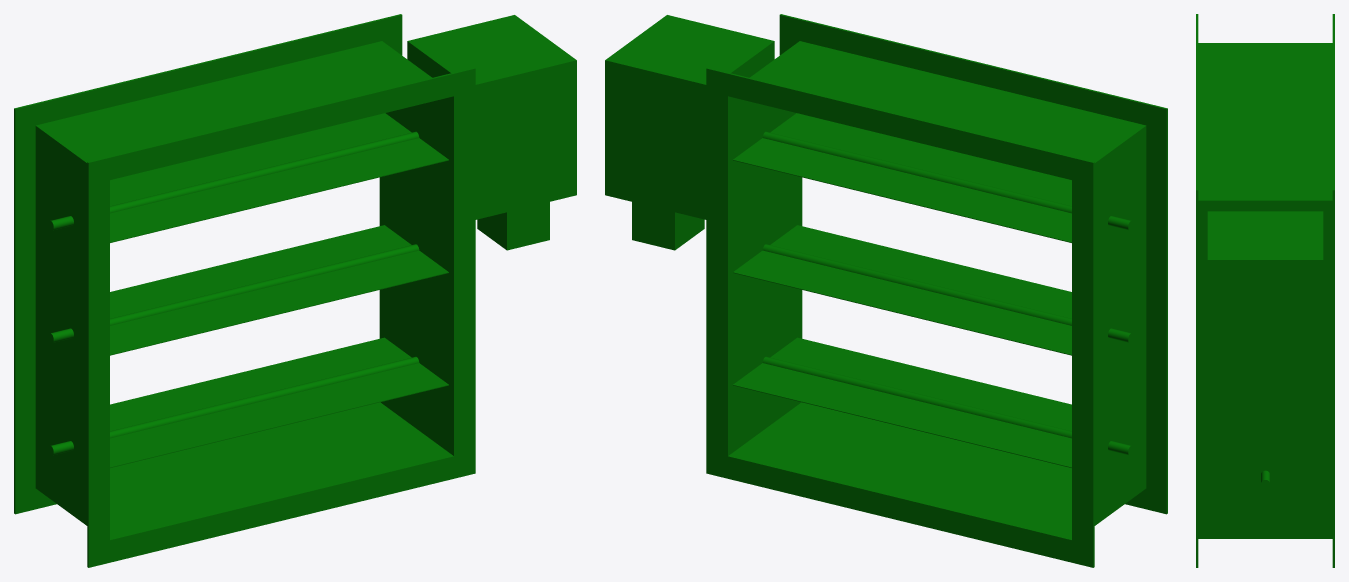
The model's file is Image-1711348127628-2280725542608_77-GE153_H.fbx.
3 views of the same model, side by side, from view 1: azimuth 30°, elevation 25°; view 2: azimuth 150°, elevation 25°; view 3: azimuth 270°, elevation 25° (orthographic). The views are drawn at different scales.
Visible parts, largest first — view 1: BOX 6 of EQUIPMENT /77-GE153_H, BOX 8 of EQUIPMENT /77-GE153_H, BOX 1 of EQUIPMENT /77-GE153_H, BOX 7 of EQUIPMENT /77-GE153_H, BOX 3 of EQUIPMENT /77-GE153_H, BOX 5 of EQUIPMENT /77-GE153_H, BOX 4 of EQUIPMENT /77-GE153_H, CYLINDER 3 of EQUIPMENT /77-GE153_H, CYLINDER 1 of EQUIPMENT /77-GE153_H, CYLINDER 2 of EQUIPMENT /77-GE153_H, BOX 2 of EQUIPMENT /77-GE153_H; view 2: BOX 6 of EQUIPMENT /77-GE153_H, BOX 7 of EQUIPMENT /77-GE153_H, BOX 1 of EQUIPMENT /77-GE153_H, BOX 8 of EQUIPMENT /77-GE153_H, BOX 3 of EQUIPMENT /77-GE153_H, BOX 5 of EQUIPMENT /77-GE153_H, BOX 4 of EQUIPMENT /77-GE153_H, CYLINDER 3 of EQUIPMENT /77-GE153_H, CYLINDER 1 of EQUIPMENT /77-GE153_H, CYLINDER 2 of EQUIPMENT /77-GE153_H, BOX 2 of EQUIPMENT /77-GE153_H; view 3: BOX 6 of EQUIPMENT /77-GE153_H, BOX 1 of EQUIPMENT /77-GE153_H, BOX 2 of EQUIPMENT /77-GE153_H, BOX 7 of EQUIPMENT /77-GE153_H, BOX 8 of EQUIPMENT /77-GE153_H.
Part boxes in pixels (x1,y1,x2,y2): BOX 6 of EQUIPMENT /77-GE153_H: (35,41,452,538); BOX 8 of EQUIPMENT /77-GE153_H: (87,67,475,567); BOX 1 of EQUIPMENT /77-GE153_H: (407,15,576,219); BOX 7 of EQUIPMENT /77-GE153_H: (14,14,402,514); BOX 3 of EQUIPMENT /77-GE153_H: (110,225,448,355); BOX 5 of EQUIPMENT /77-GE153_H: (110,337,448,467); BOX 4 of EQUIPMENT /77-GE153_H: (110,113,448,242); CYLINDER 3 of EQUIPMENT /77-GE153_H: (49,244,419,342); CYLINDER 1 of EQUIPMENT /77-GE153_H: (49,131,419,230); CYLINDER 2 of EQUIPMENT /77-GE153_H: (49,356,419,455); BOX 2 of EQUIPMENT /77-GE153_H: (477,202,549,250); BOX 6 of EQUIPMENT /77-GE153_H: (729,41,1146,538); BOX 7 of EQUIPMENT /77-GE153_H: (706,67,1094,567); BOX 1 of EQUIPMENT /77-GE153_H: (605,15,774,219); BOX 8 of EQUIPMENT /77-GE153_H: (779,14,1167,514); BOX 3 of EQUIPMENT /77-GE153_H: (733,225,1071,355); BOX 5 of EQUIPMENT /77-GE153_H: (733,337,1071,467); BOX 4 of EQUIPMENT /77-GE153_H: (733,113,1071,242); CYLINDER 3 of EQUIPMENT /77-GE153_H: (762,244,1132,342); CYLINDER 1 of EQUIPMENT /77-GE153_H: (762,131,1132,230); CYLINDER 2 of EQUIPMENT /77-GE153_H: (762,356,1132,455); BOX 2 of EQUIPMENT /77-GE153_H: (632,202,704,250); BOX 6 of EQUIPMENT /77-GE153_H: (1198,43,1332,538); BOX 1 of EQUIPMENT /77-GE153_H: (1207,211,1323,385); BOX 2 of EQUIPMENT /77-GE153_H: (1237,386,1293,431); BOX 7 of EQUIPMENT /77-GE153_H: (1332,14,1334,567); BOX 8 of EQUIPMENT /77-GE153_H: (1196,14,1198,567).
Size of the model in its own units: 1.15 by 0.3 by 0.9.
